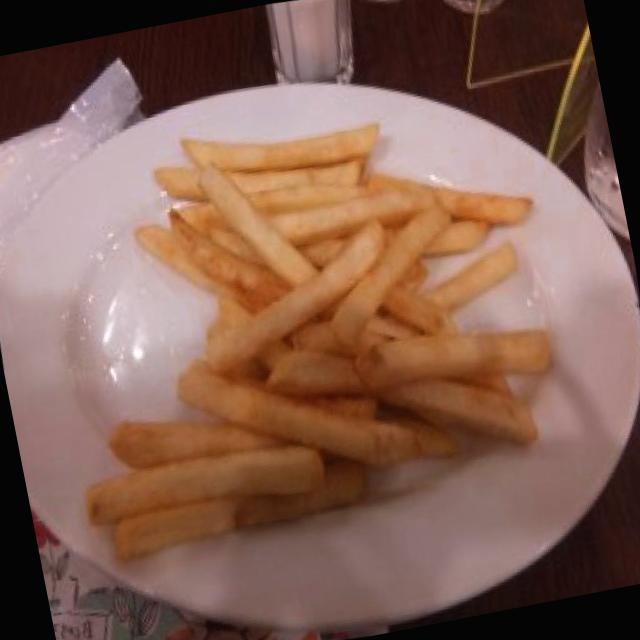French Fries: (20, 68, 586, 590)
